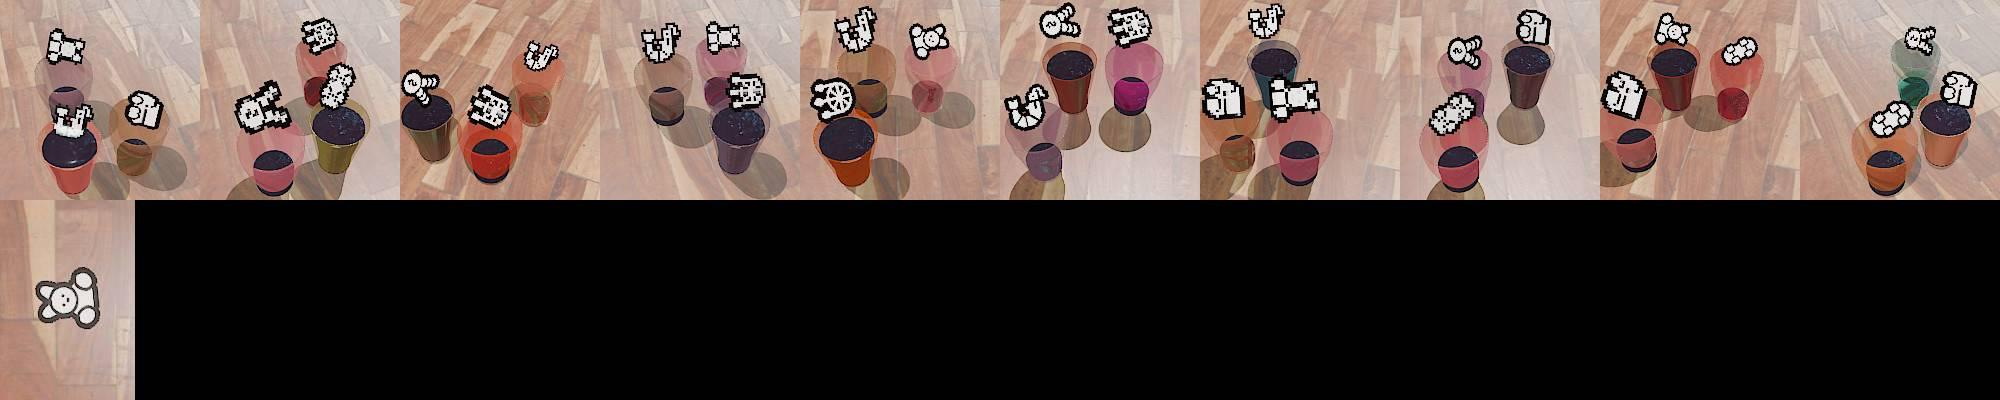icon: (33, 267, 102, 329), (235, 79, 292, 134), (1266, 73, 1321, 121), (1601, 69, 1649, 120), (465, 83, 514, 129), (1427, 91, 1477, 136), (833, 6, 877, 55), (1105, 5, 1153, 48), (809, 77, 855, 121), (1201, 76, 1245, 121), (640, 20, 681, 64), (318, 62, 356, 108), (50, 100, 95, 138), (46, 27, 88, 67), (1871, 98, 1913, 137), (1038, 2, 1081, 40), (125, 89, 164, 130), (1940, 70, 1980, 109), (726, 70, 766, 109), (1246, 2, 1286, 40), (1653, 10, 1693, 48), (300, 17, 340, 55), (1515, 7, 1552, 46), (705, 18, 743, 55), (402, 68, 441, 104), (1008, 93, 1045, 130), (908, 21, 946, 56), (1446, 34, 1483, 68), (521, 40, 561, 71), (1720, 36, 1758, 66), (1906, 25, 1938, 56)
